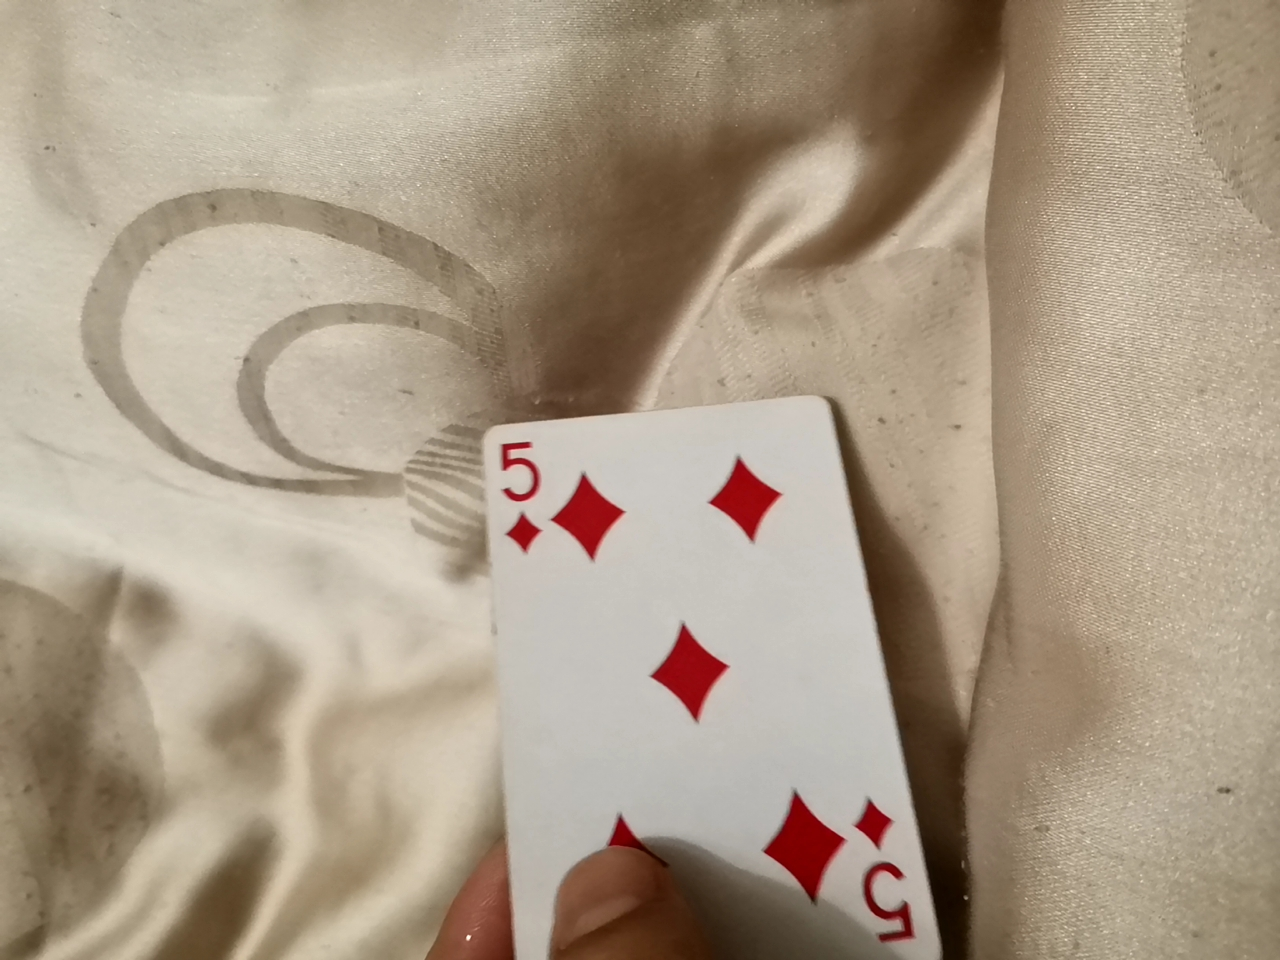fk 5: (490, 390, 912, 942)
